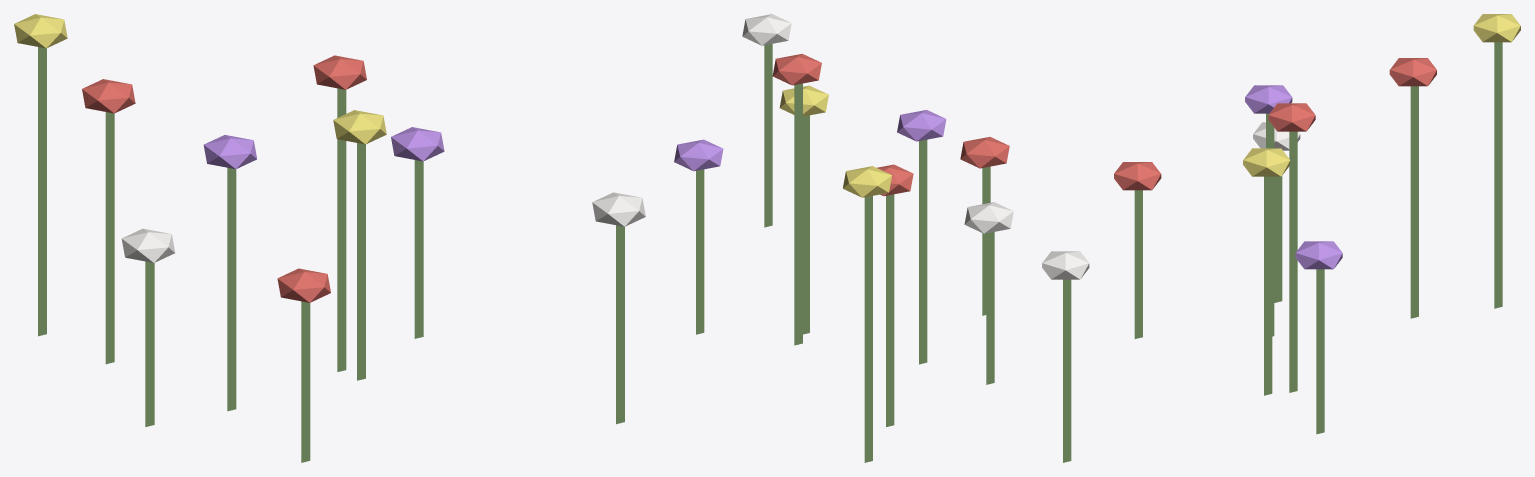
The model's file is flowers_alpine.glb.
The picture shows the model from 3 angles, left to right: view 1: azimuth 30°, elevation 25°; view 2: azimuth 150°, elevation 25°; view 3: azimuth 270°, elevation 25°; orthographic projection. The views are drawn at different scales.
Parts seen in each view (by area): view 1: Flowers_Alpine; view 2: Flowers_Alpine; view 3: Flowers_Alpine.
Boxes of the visible parts, <box> form: Flowers_Alpine: <box>14,14,645,462</box>; Flowers_Alpine: <box>674,14,1013,462</box>; Flowers_Alpine: <box>1042,14,1520,462</box>.
Bounding box in the file's own units: 0.6161 × 0.4629 × 0.6897.
2 materials, 2 textured.
